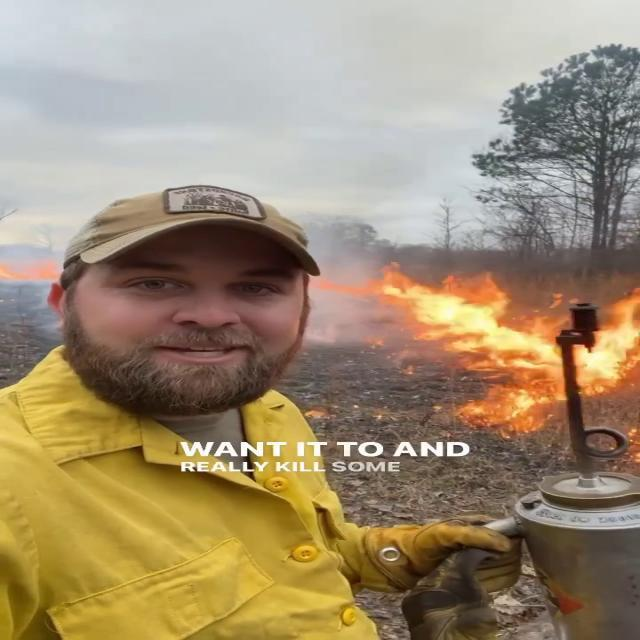Fire: (352, 266, 638, 424)
